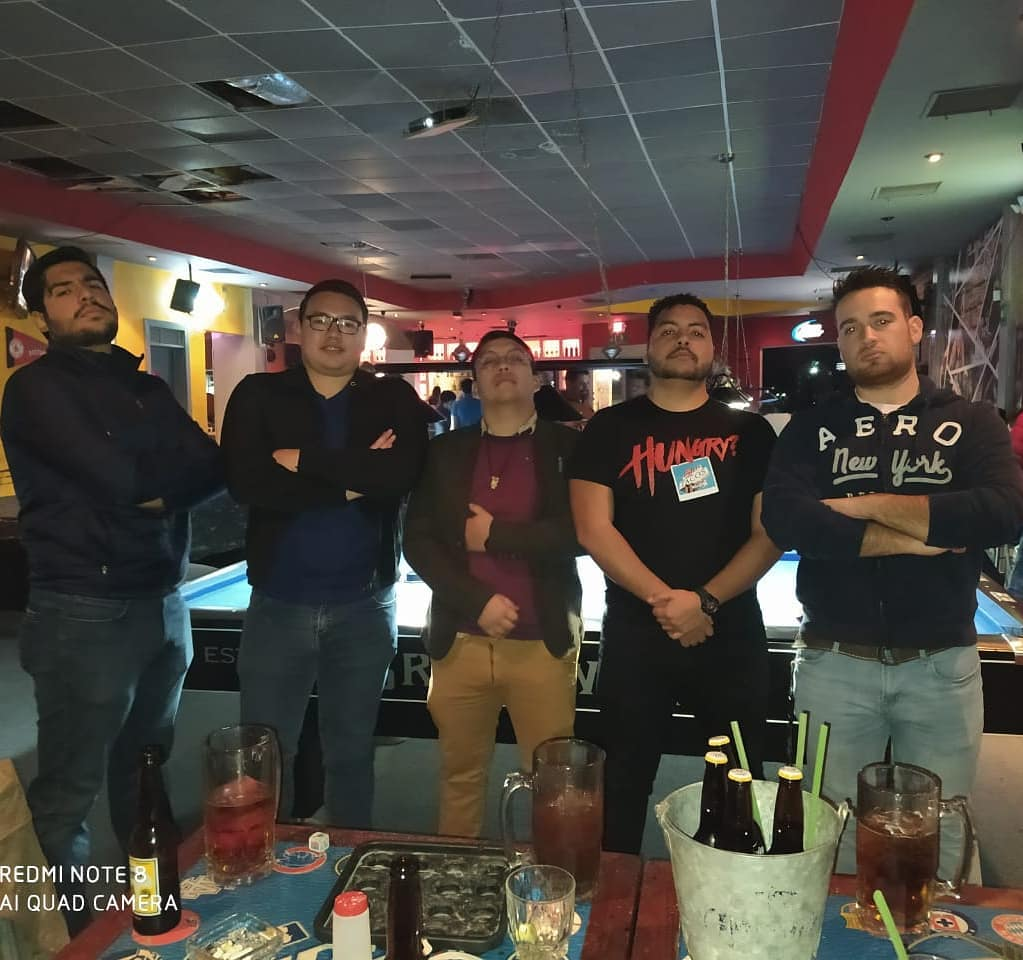Yoshi: (588, 271, 778, 659)
